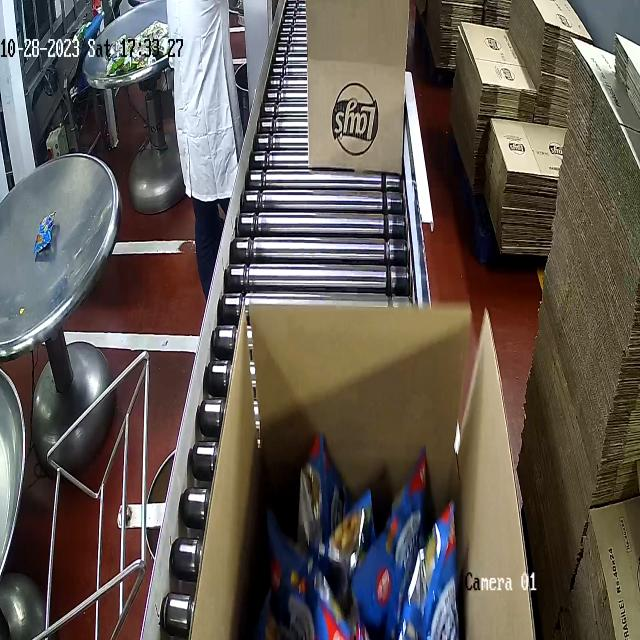PAPRIKA: (276, 434, 475, 640)
